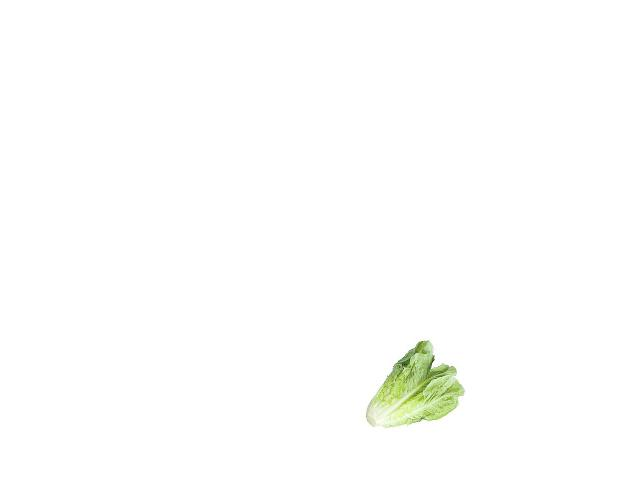lettuce: (369, 335, 463, 432)
